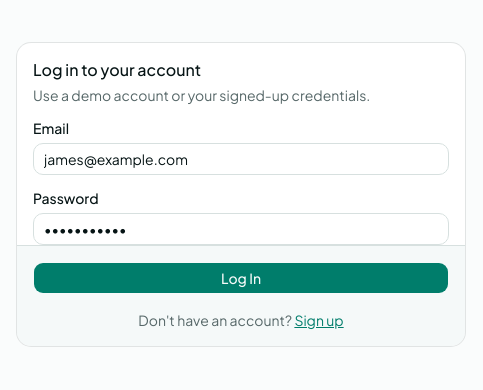
LoginPage › displays server error message when login fails
Click the button "Log In" at (241, 278), box [33, 262, 449, 294]
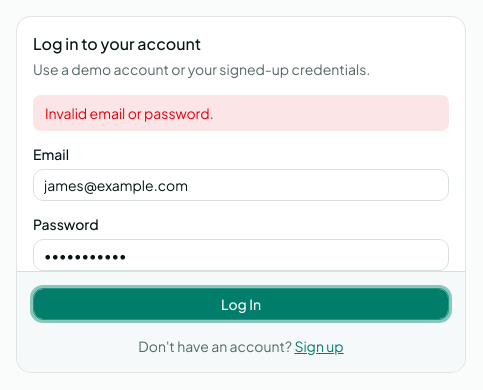
Expected: the text "Invalid email or password." is shown, [33, 95, 449, 131]
